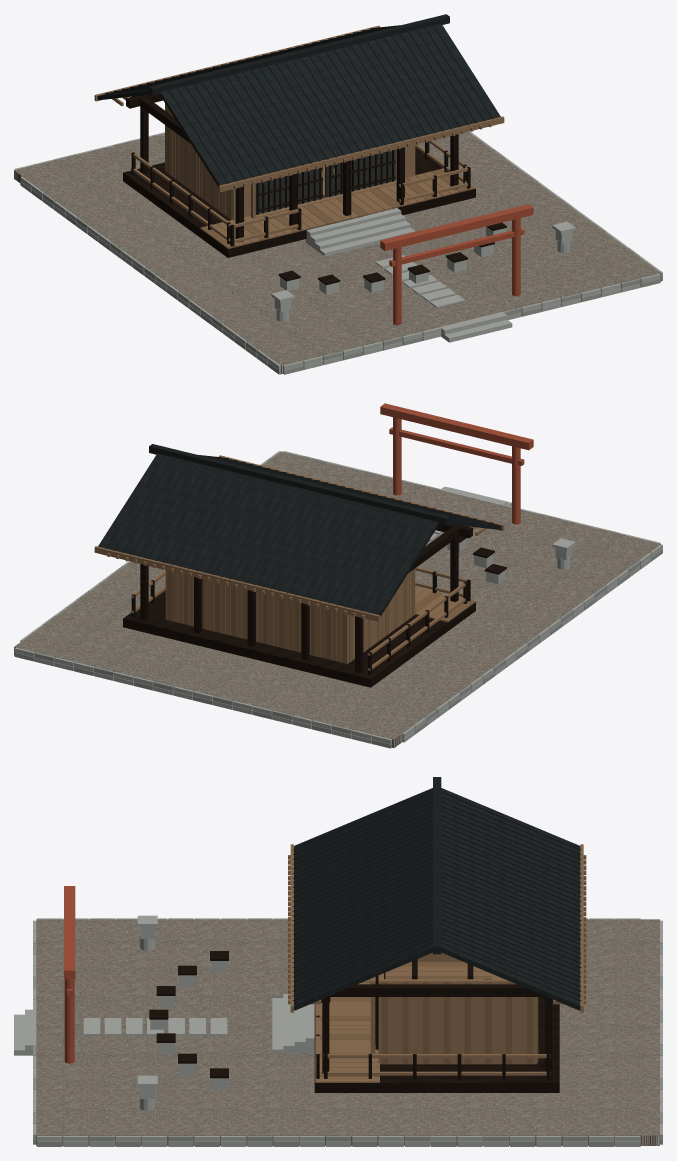
File: story-shrine.glb
3 views of the same model, one above another, from view 1: azimuth 30°, elevation 25°; view 2: azimuth 150°, elevation 25°; view 3: azimuth 270°, elevation 25° (orthographic). The views are drawn at different scales.
Visible parts, largest first — view 1: Packed earth courtyard.001, Deep pitched roof.003, Side retaining stone.003, Sanctuary side wall, Timber main floor.003, Torii column.003, Interior floor board, Side retaining stone.002, Closed sanctuary door.004, Closed sanctuary door.003, Door lattice, Door lattice.012; view 2: Packed earth courtyard.001, Deep pitched roof.003, Timber main floor.003, Sanctuary side wall, Side retaining stone.003, Interior floor board, Torii column.003, Side retaining stone.002; view 3: Packed earth courtyard.001, Deep pitched roof.003, Sanctuary side wall, Side retaining stone.003, Timber main floor.003, Interior floor board, Side retaining stone.002, Torii column.003.
Part boxes in pixels (left/top/right/bottom): Packed earth courtyard.001: left=14, top=132, right=661, bottom=374; Deep pitched roof.003: left=97, top=14, right=500, bottom=186; Side retaining stone.003: left=14, top=132, right=662, bottom=370; Sanctuary side wall: left=94, top=25, right=504, bottom=246; Timber main floor.003: left=123, top=94, right=506, bottom=285; Torii column.003: left=380, top=204, right=533, bottom=325; Interior floor board: left=165, top=103, right=467, bottom=248; Side retaining stone.002: left=31, top=131, right=662, bottom=374; Closed sanctuary door.004: left=325, top=149, right=395, bottom=197; Closed sanctuary door.003: left=255, top=167, right=322, bottom=214; Door lattice: left=256, top=168, right=323, bottom=214; Door lattice.012: left=328, top=150, right=395, bottom=196; Packed earth courtyard.001: left=14, top=451, right=660, bottom=747; Deep pitched roof.003: left=98, top=444, right=501, bottom=616; Timber main floor.003: left=123, top=524, right=506, bottom=687; Sanctuary side wall: left=94, top=455, right=504, bottom=670; Side retaining stone.003: left=14, top=451, right=662, bottom=744; Interior floor board: left=167, top=568, right=475, bottom=663; Torii column.003: left=380, top=403, right=533, bottom=524; Side retaining stone.002: left=14, top=456, right=662, bottom=748; Packed earth courtyard.001: left=36, top=919, right=659, bottom=1145; Deep pitched roof.003: left=292, top=777, right=581, bottom=1010; Sanctuary side wall: left=288, top=844, right=586, bottom=1082; Side retaining stone.003: left=14, top=915, right=662, bottom=1146; Timber main floor.003: left=149, top=951, right=559, bottom=1092; Interior floor board: left=315, top=962, right=538, bottom=1076; Side retaining stone.002: left=33, top=918, right=662, bottom=1146; Torii column.003: left=64, top=886, right=75, bottom=1063.
Size of the model in its own units: 23.24 by 8.71 by 29.14.
10 materials, 3 textured.
